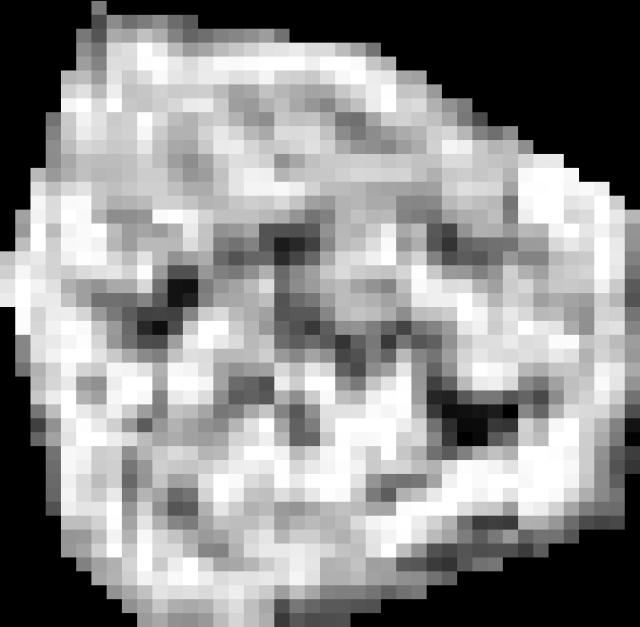tumor_good_chance: (0, 1, 640, 627)
